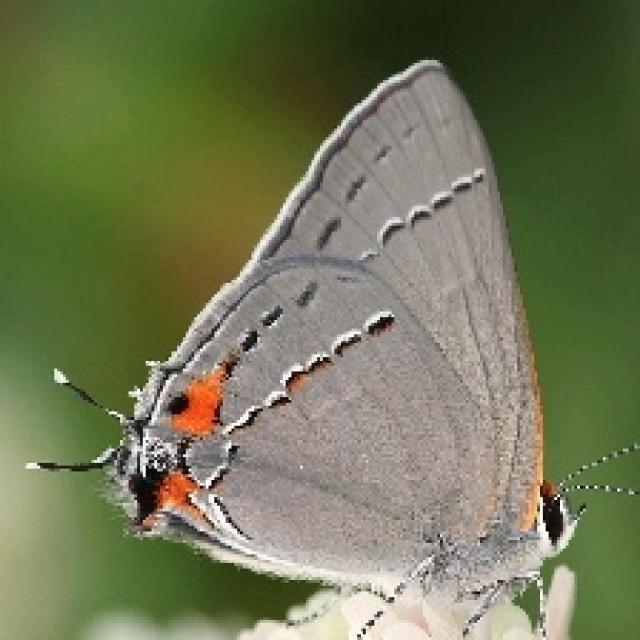butterfly: (23, 54, 637, 637)
